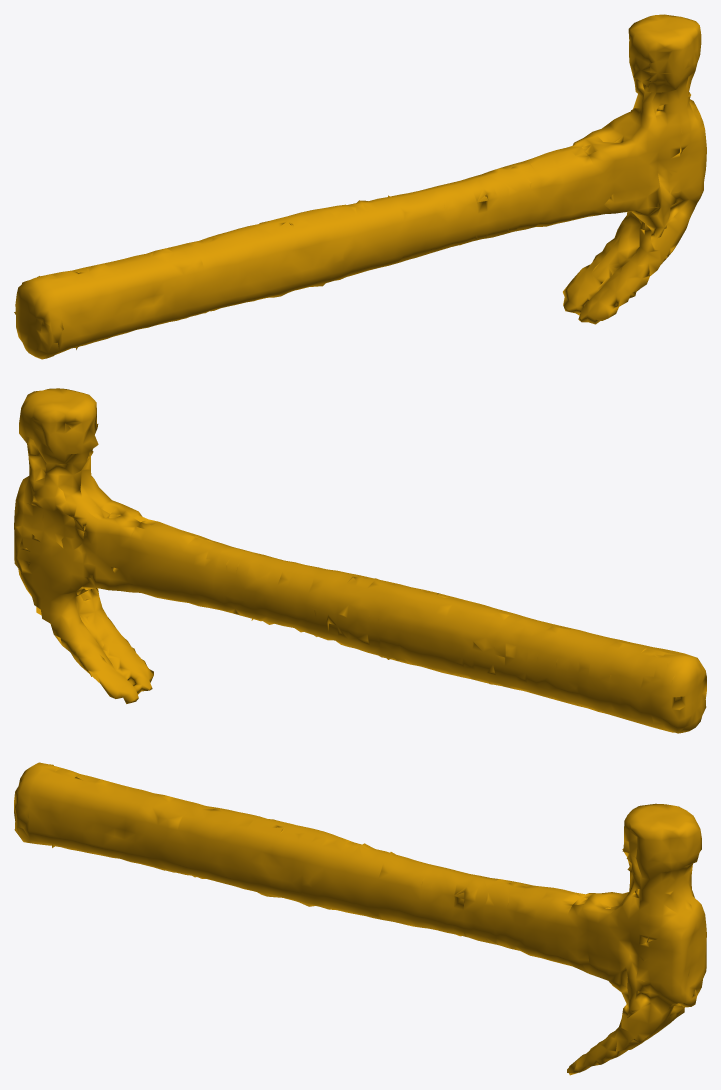
The model's file is model_origin.obj.
3 renders of one model, top to bottom at view 1: azimuth 30°, elevation 25°; view 2: azimuth 150°, elevation 25°; view 3: azimuth 330°, elevation 25°, orthographic.
Size of the model in its own units: 1 by 0.3893 by 0.1044.
